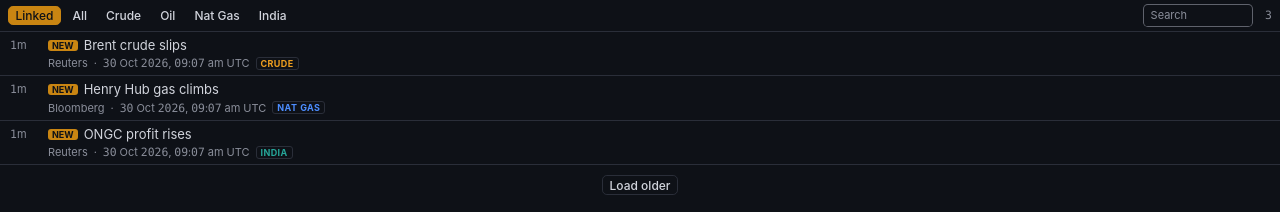
NewsWidget filters by tag and by search text
Step 1. Click the button "All" → (80, 15), box [65,6,94,25]
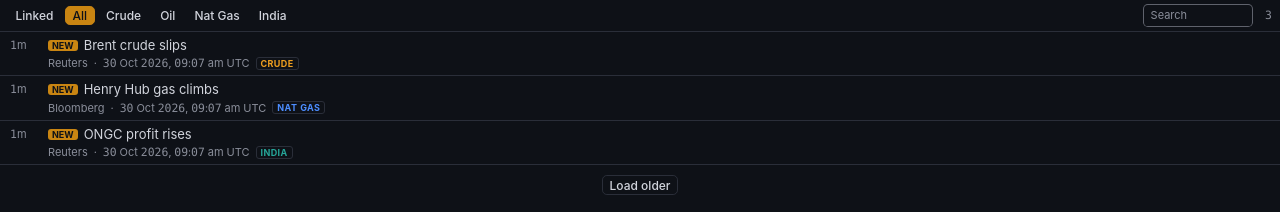
Check: the number of links is 3, box [48,37,187,53]; [48,81,219,97]; [48,126,192,142]
Step 2. Click the button "Nat Gas" → (217, 15), box [187,6,247,25]
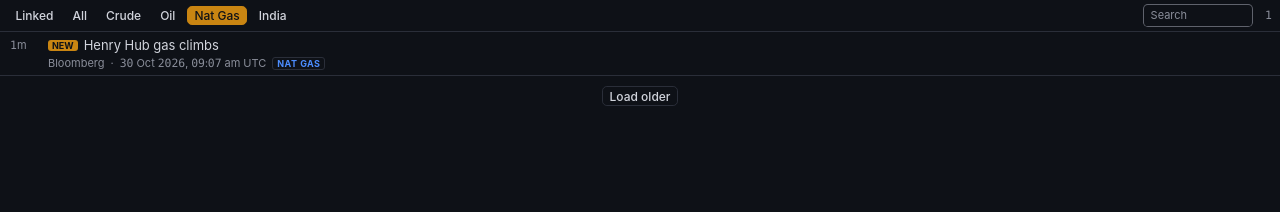
Check: the link "Henry Hub gas climbs" is shown, box [48,37,219,53]
Check: the link "Brent crude slips" is gone
Step 3. Click the button "All" → (80, 15), box [65,6,94,25]
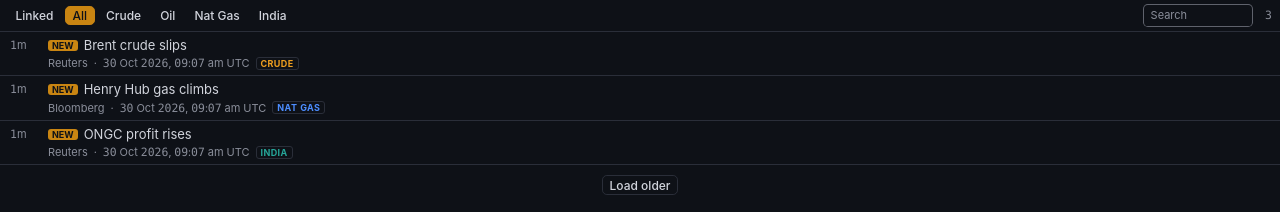
Step 4. Type "bloomberg" into the search field named "Search headlines" → (1198, 15), box [1143,4,1253,27]
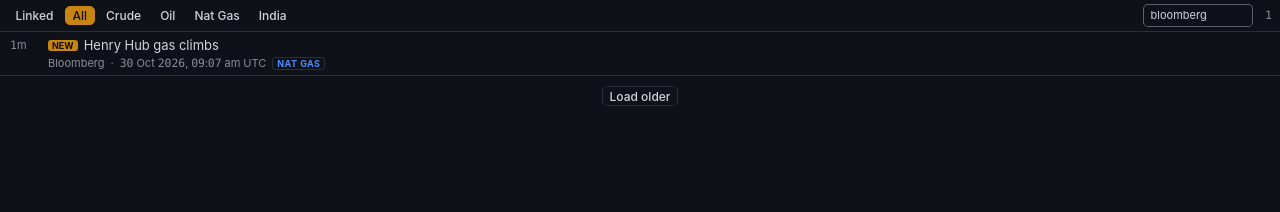
Check: the number of links is 1, box [48,37,219,53]
